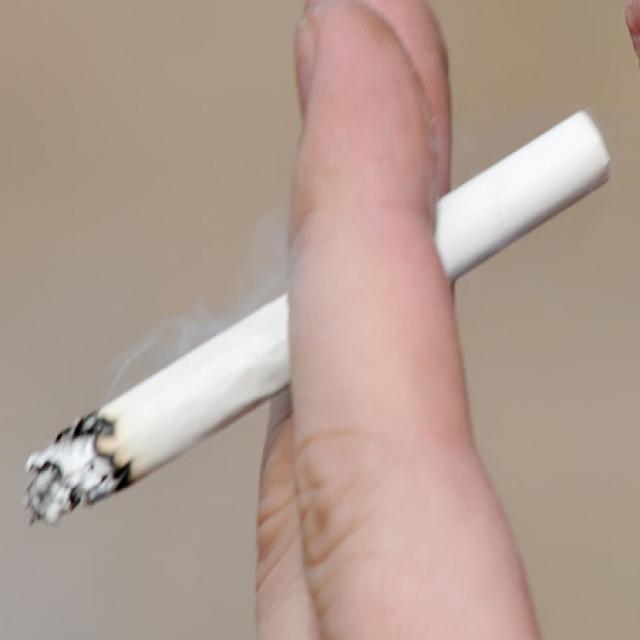cigarette: (1, 109, 619, 492)
